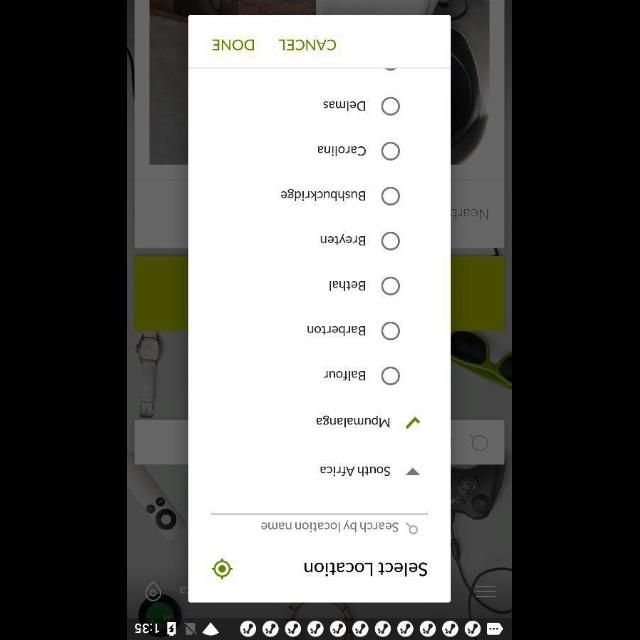checkbox: (382, 322, 402, 340), (382, 277, 402, 295), (382, 232, 402, 250), (382, 142, 402, 160), (382, 367, 401, 385), (382, 96, 400, 115), (383, 187, 401, 205)
icon: (212, 558, 234, 580), (406, 416, 420, 428), (406, 522, 418, 534), (405, 467, 421, 475)
input: (212, 512, 428, 534)
panel: (188, 15, 452, 602)
text: (304, 562, 428, 576), (262, 520, 398, 532), (280, 189, 366, 201), (318, 415, 390, 427), (278, 38, 338, 52), (321, 466, 391, 476), (308, 326, 366, 336), (322, 234, 366, 246), (324, 100, 366, 112), (213, 39, 255, 51), (318, 146, 366, 156), (324, 371, 366, 381), (330, 281, 366, 291)
textbutton: (278, 38, 338, 52), (213, 39, 255, 51)
uppertaskbar: (128, 617, 512, 639)
